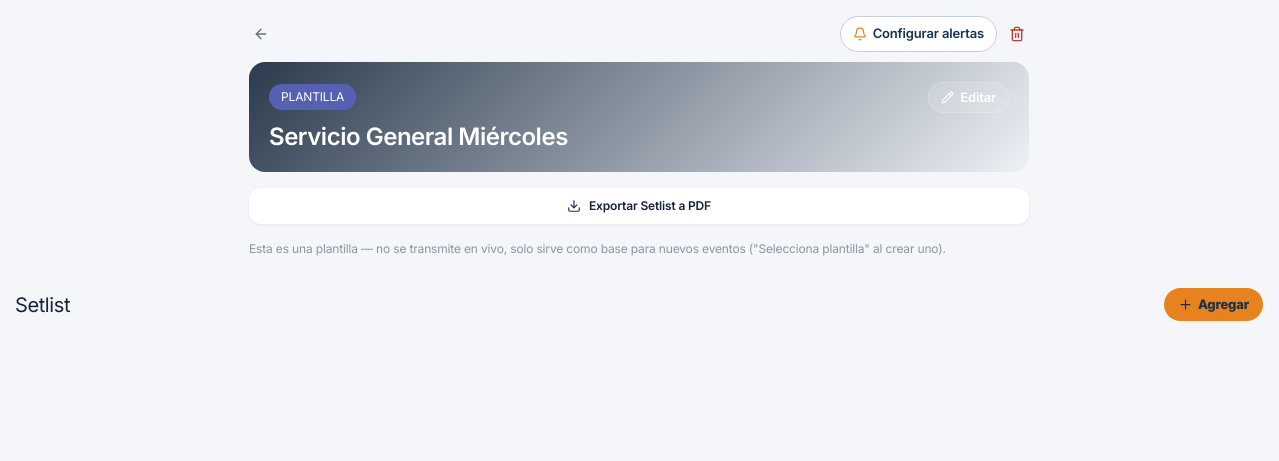
it: Guardar plantilla › si la base no guarda, lo dice y deja los campos abiertos
Click the button "Editar" at {"x": 969, "y": 97}, box [928, 82, 1009, 113]
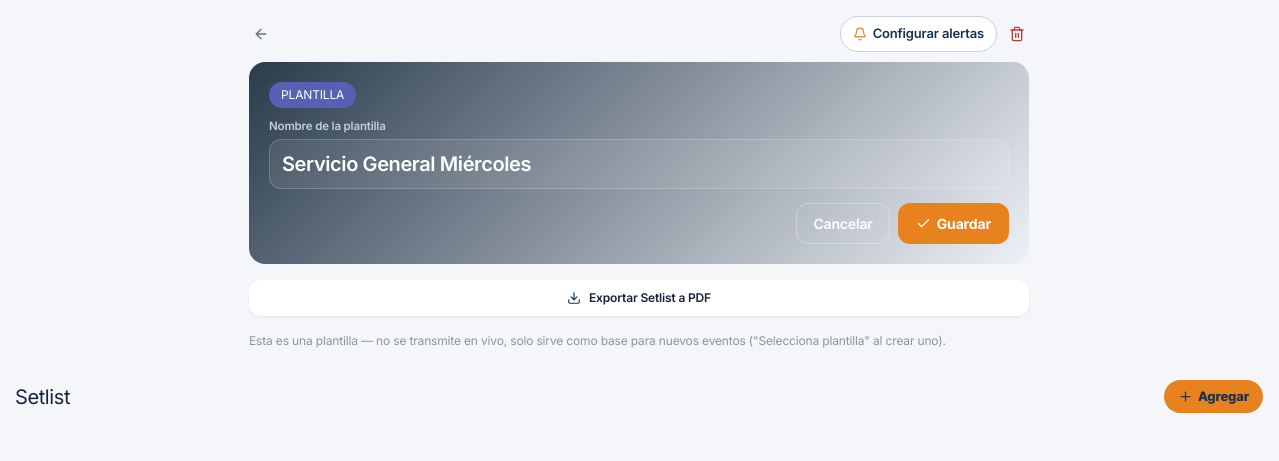
Click the button "Guardar" at {"x": 953, "y": 223}, box [898, 203, 1009, 244]
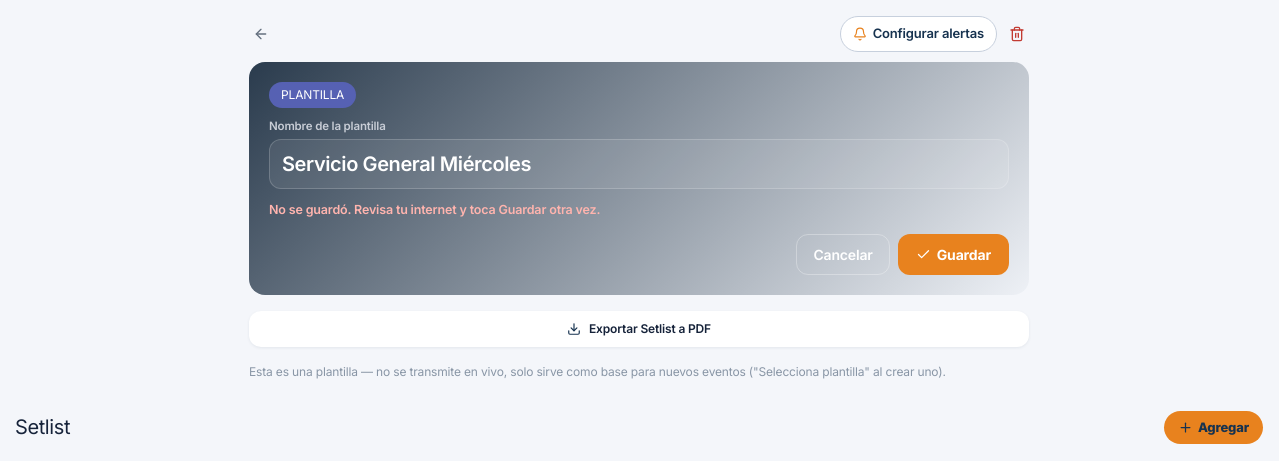
Check: the field labelled "Nombre de la plantilla" is shown, box [269, 139, 1009, 189]
Check: the text "No se guardó. Revisa tu internet y toca Guardar otra vez." is shown, box [269, 202, 600, 217]
